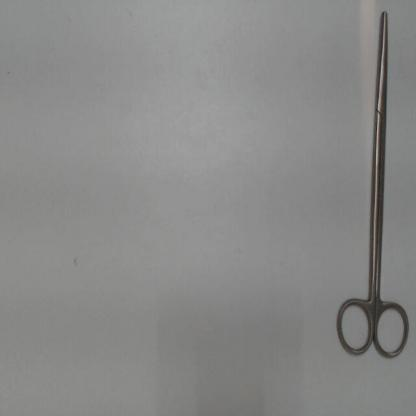9 Metzenbaum Scissors: (332, 11, 412, 367)
